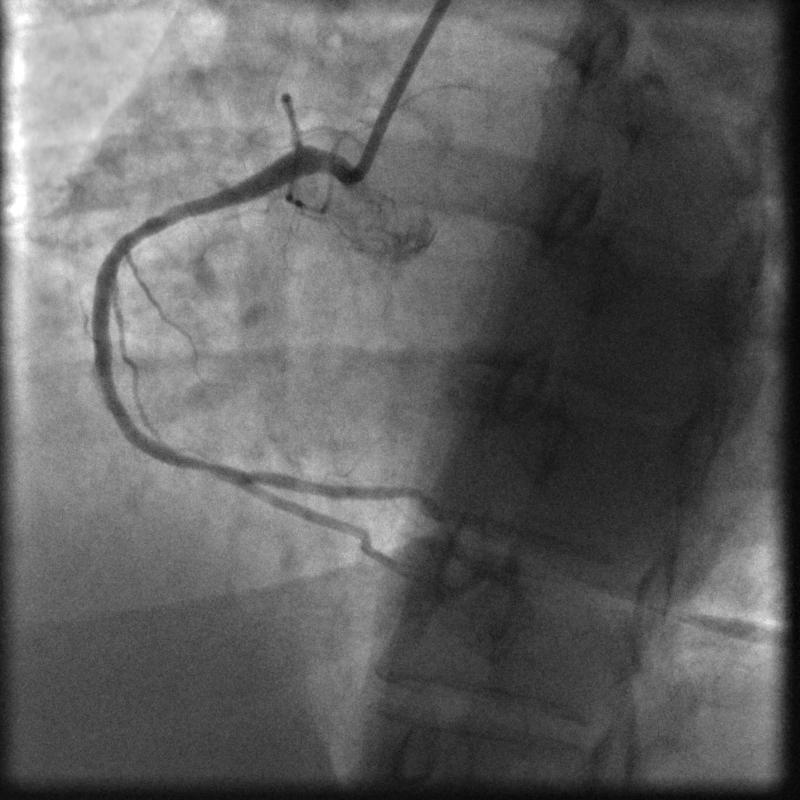Stenosis: (192, 448, 241, 492)
